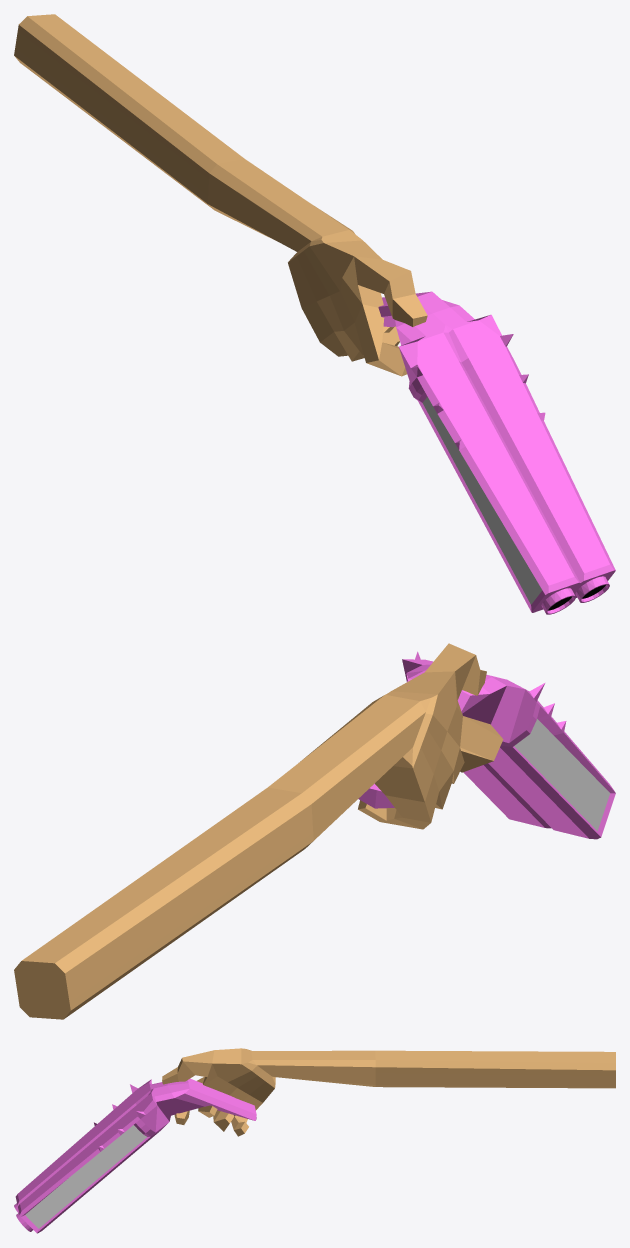
Rendered from Shockwave.fbx.
3 views of the same model, one above another, from view 1: azimuth 30°, elevation 25°; view 2: azimuth 150°, elevation 25°; view 3: azimuth 270°, elevation 25° (orthographic). The views are drawn at different scales.
Visible parts, largest first — view 1: Cube.005, Cube, Cube.007; view 2: Cube.005, Cube, Cube.007; view 3: Cube.005, Cube, Cube.007.
Part boxes in pixels (x1,y1,x2,y2): Cube.005: (14, 14, 427, 376); Cube: (378, 291, 615, 614); Cube.007: (422, 397, 542, 604); Cube.005: (14, 643, 503, 1019); Cube: (358, 651, 615, 839); Cube.007: (514, 719, 610, 830); Cube.005: (162, 1048, 615, 1136); Cube: (14, 1078, 256, 1233); Cube.007: (25, 1125, 146, 1228).
Size of the model in its own units: 470 by 972 by 3377.
